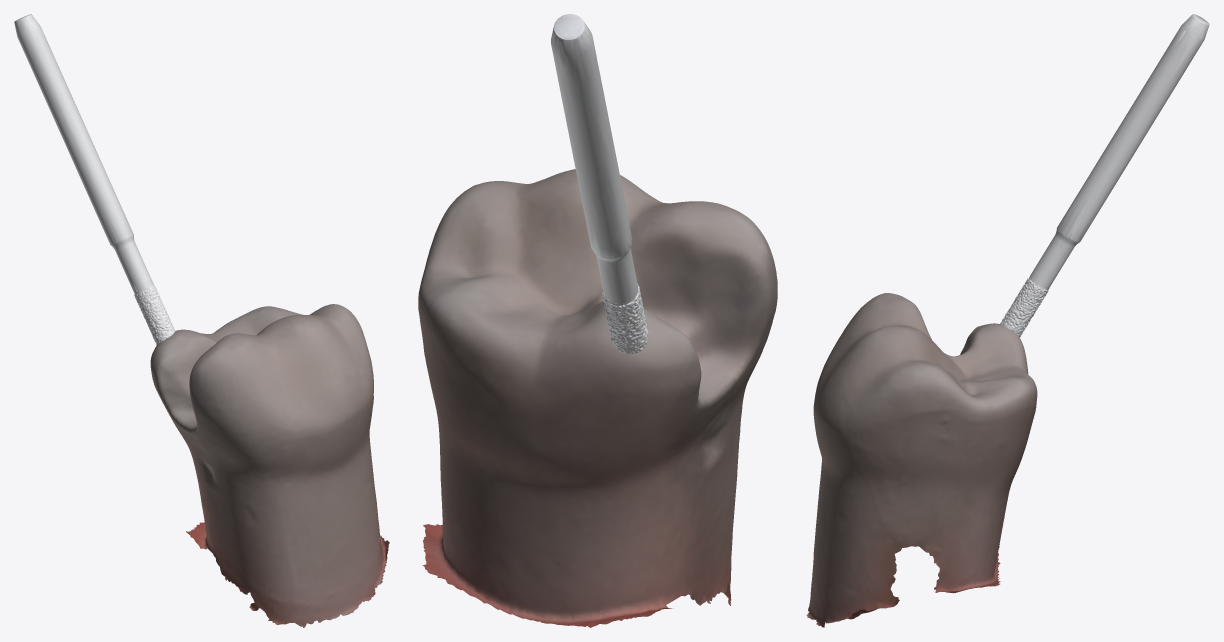
Rendered from 2133_onlay_4.fbx.
3 renders of one model, left to right at view 1: azimuth 30°, elevation 25°; view 2: azimuth 150°, elevation 25°; view 3: azimuth 270°, elevation 25°, orthographic. The views are drawn at different scales.
Parts seen in each view (by area): view 1: PIEZA 36 SOLA, Mesh_0, Mesh_0.001; view 2: PIEZA 36 SOLA, Mesh_0, Mesh_0.001; view 3: PIEZA 36 SOLA, Mesh_0, Mesh_0.001.
Part boxes in pixels (x1,y1,x2,y2): PIEZA 36 SOLA: (150, 304, 389, 627); Mesh_0: (14, 14, 153, 293); Mesh_0.001: (134, 285, 175, 344); PIEZA 36 SOLA: (418, 169, 777, 627); Mesh_0: (551, 14, 638, 303); Mesh_0.001: (602, 283, 648, 354); PIEZA 36 SOLA: (806, 293, 1037, 627); Mesh_0: (1029, 14, 1209, 288); Mesh_0.001: (1000, 277, 1048, 337).
Bounding box in the file's own units: 130 × 292 × 199.
Materials: 2 (1 with a texture image).
